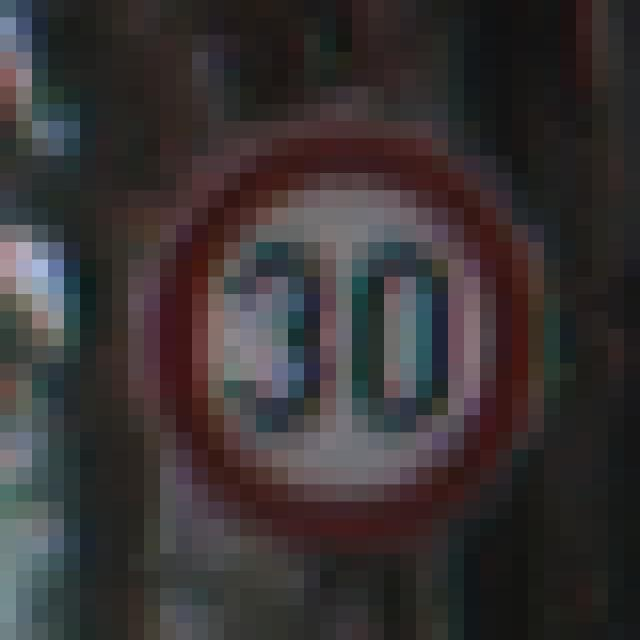Speed Limit -30-: (88, 78, 536, 527)
